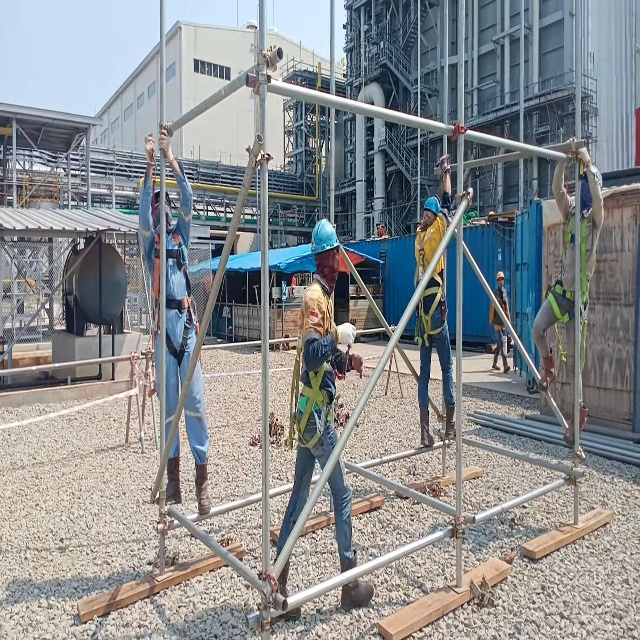Arnes_seguridad: (288, 286, 340, 452), (541, 202, 592, 368), (151, 221, 206, 370), (410, 218, 451, 348)
